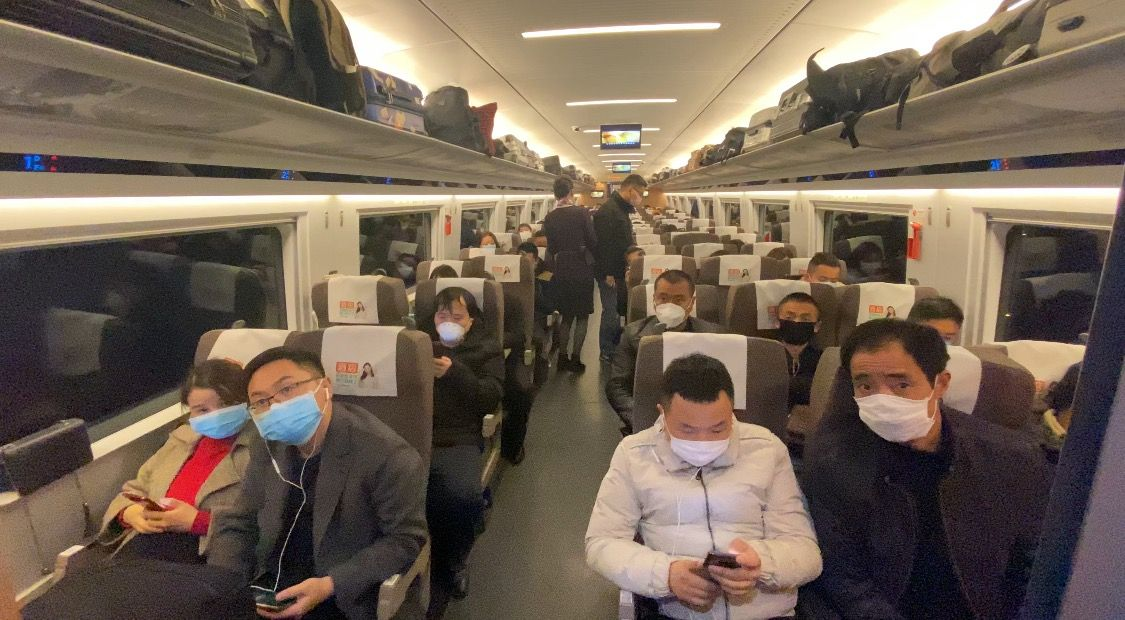rightmask: (844, 318, 945, 458), (241, 351, 342, 456), (659, 348, 739, 475), (184, 364, 256, 455), (772, 295, 825, 347), (432, 287, 475, 351), (653, 268, 685, 333)
